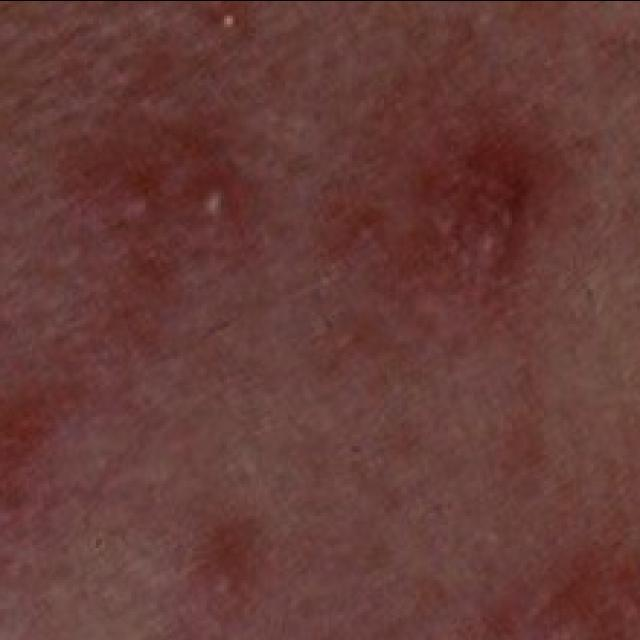acne: (316, 0, 564, 410), (49, 0, 308, 378), (0, 401, 288, 640)
